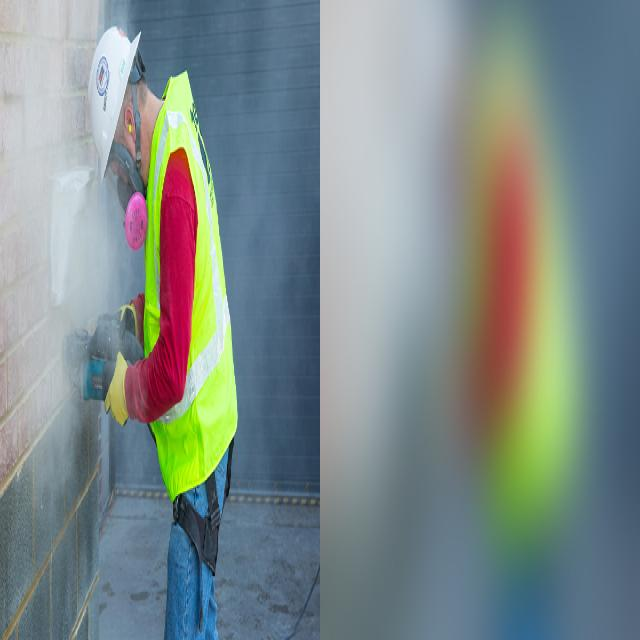helmet: (84, 18, 142, 186)
vest: (142, 66, 240, 519)
